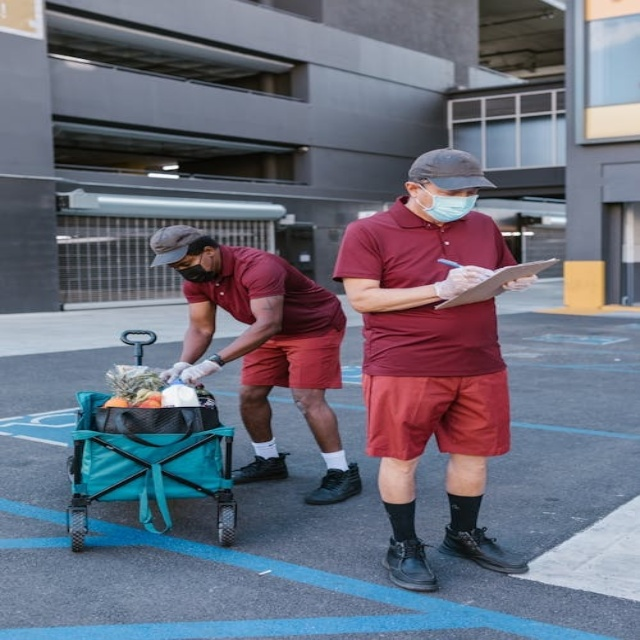Guantes: (434, 265, 496, 301), (178, 356, 227, 382), (500, 271, 537, 292), (158, 361, 191, 384)
Mascara: (415, 183, 478, 222), (174, 254, 216, 282)
Sin_gafas: (169, 253, 198, 271), (442, 187, 482, 197)
